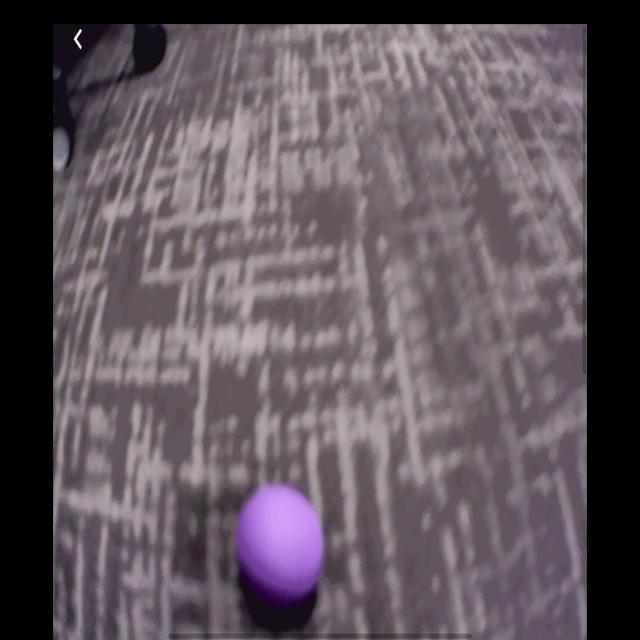ball: (236, 482, 327, 616)
